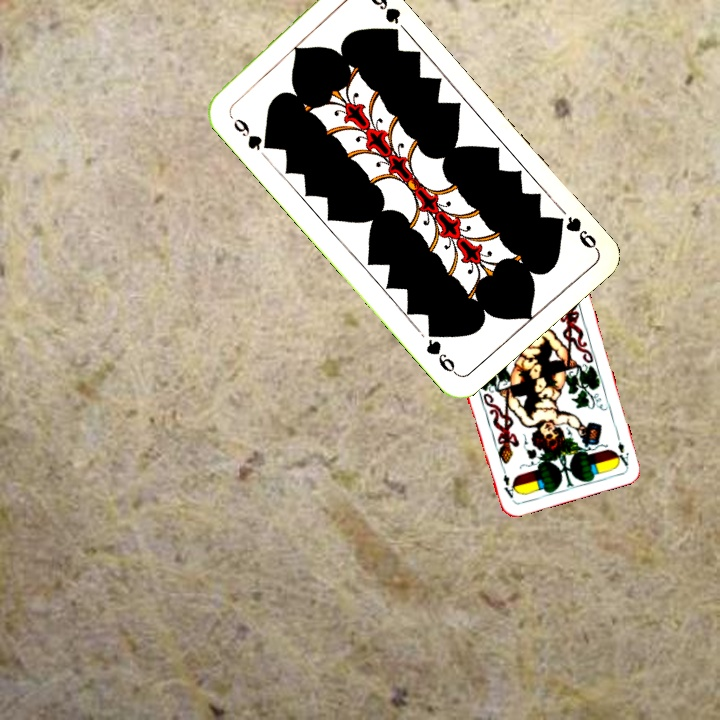EA: (611, 428, 632, 468)
G9: (548, 212, 600, 253), (229, 114, 274, 153)
